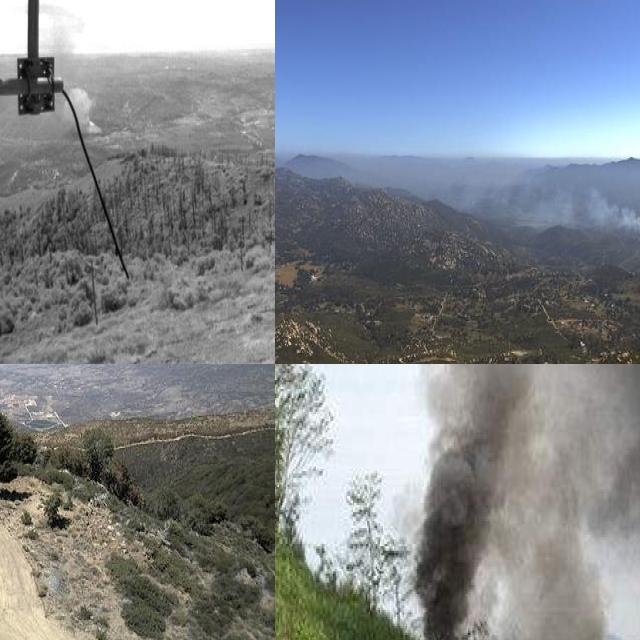smoke: (417, 364, 640, 640), (468, 169, 640, 237), (62, 25, 104, 141)
